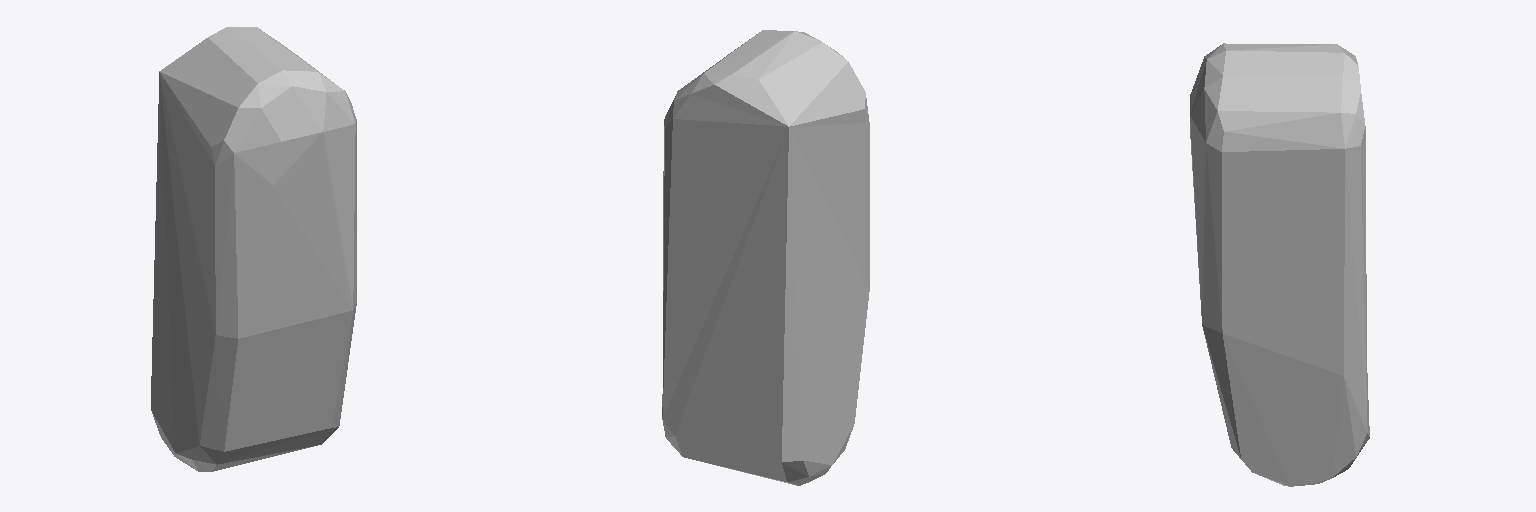
The model's file is thumbpart_r_v2_col.obj.
3 views of the same model, side by side, from view 1: azimuth 30°, elevation 25°; view 2: azimuth 150°, elevation 25°; view 3: azimuth 270°, elevation 25° (orthographic).
Size of the model in its own units: 0.017 by 0.0461 by 0.0183.